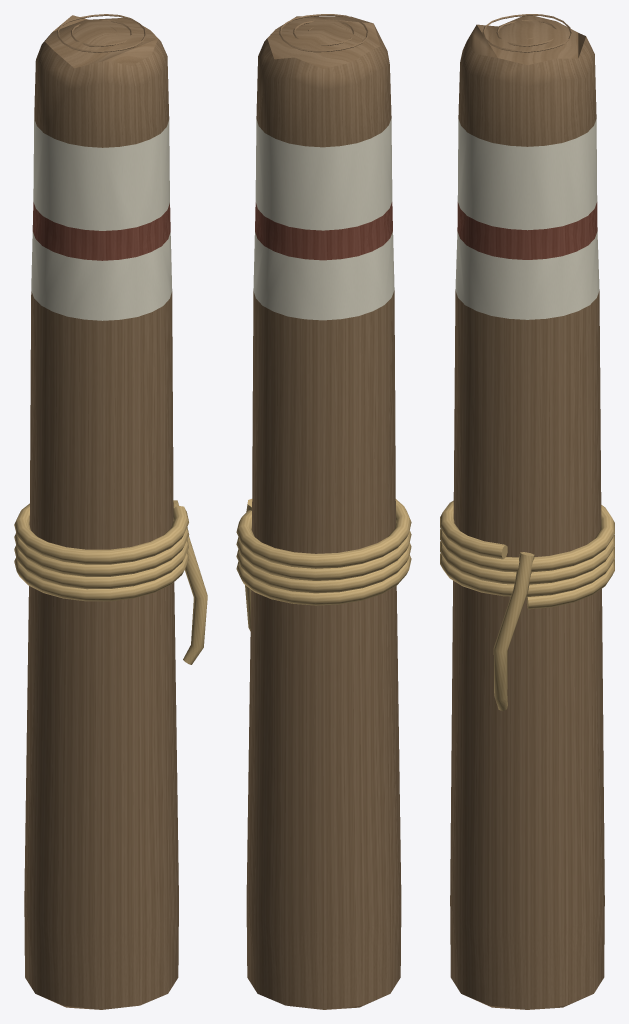
File: SM_MooringPile.fbx
3 renders of one model, left to right at view 1: azimuth 30°, elevation 25°; view 2: azimuth 150°, elevation 25°; view 3: azimuth 270°, elevation 25°, orthographic.
Parts seen in each view (by area): view 1: SM_MooringPile; view 2: SM_MooringPile; view 3: SM_MooringPile.
Boxes of the visible parts, x1,y1,x2,y2 form: SM_MooringPile: (14, 14, 207, 1009); SM_MooringPile: (236, 14, 411, 1009); SM_MooringPile: (440, 14, 614, 1009).
Size of the model in its own units: 29.1 by 26.23 by 159.
1 material, 1 textured.
